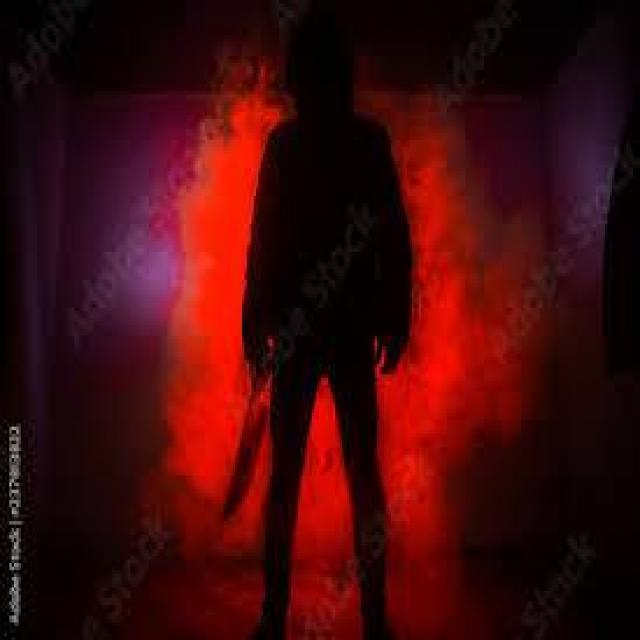Knife: (221, 364, 271, 524)
